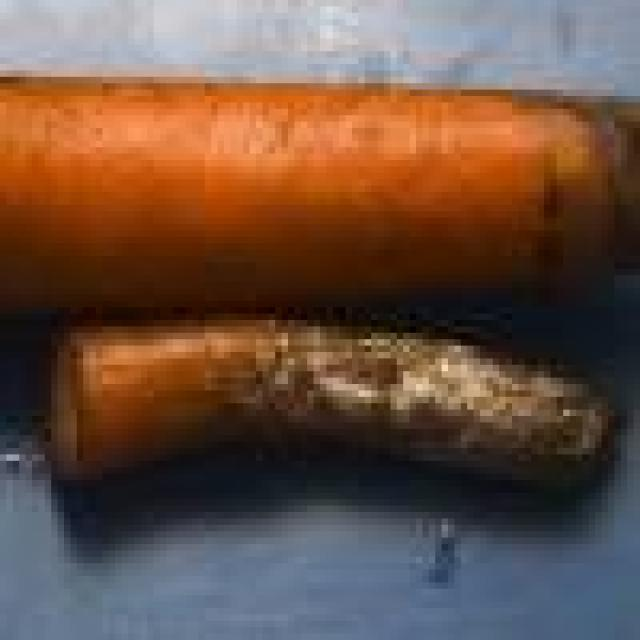Stale_Carrot: (67, 325, 587, 489), (305, 82, 640, 328)
